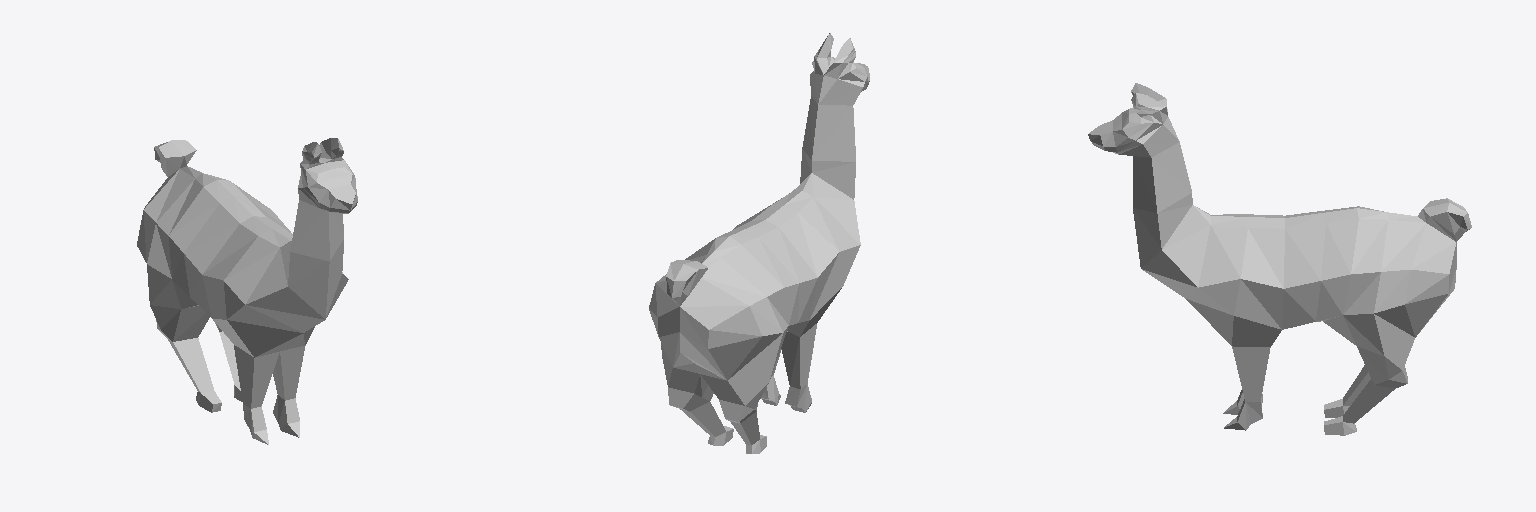
File: llamita.obj
3 renders of one model, left to right at view 1: azimuth 30°, elevation 25°; view 2: azimuth 150°, elevation 25°; view 3: azimuth 270°, elevation 25°, orthographic.
Visible parts, largest first — view 1: Cube_Cube.005; view 2: Cube_Cube.005; view 3: Cube_Cube.005.
Boxes of the visible parts, box(x1,y1,x2,y2) form: Cube_Cube.005: box(137, 138, 357, 444); Cube_Cube.005: box(649, 33, 869, 453); Cube_Cube.005: box(1088, 83, 1471, 435).
Size of the model in its own units: 59.3 by 153 by 159.